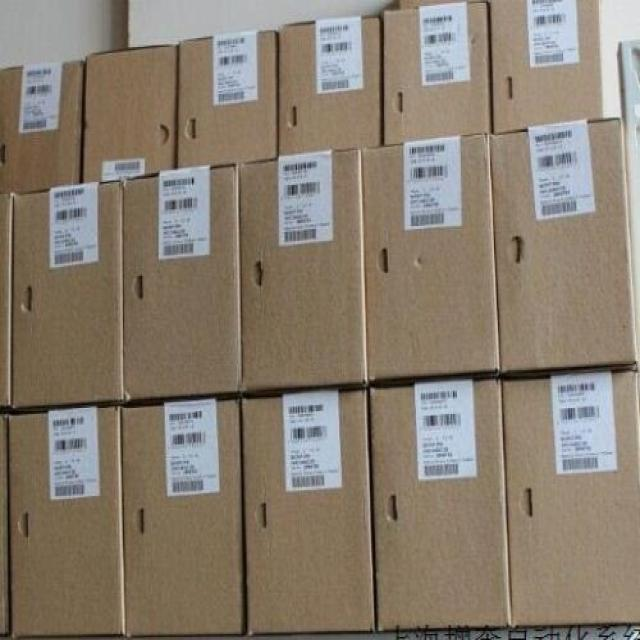box: (491, 118, 637, 367), (370, 379, 513, 631), (505, 370, 639, 625), (362, 135, 499, 377), (242, 391, 375, 633), (240, 150, 368, 389), (120, 396, 244, 636), (9, 408, 126, 637), (124, 167, 239, 398), (11, 180, 122, 407), (381, 1, 492, 145), (487, 2, 604, 133), (279, 16, 381, 155), (177, 31, 279, 170), (82, 45, 179, 184), (0, 414, 11, 635)
